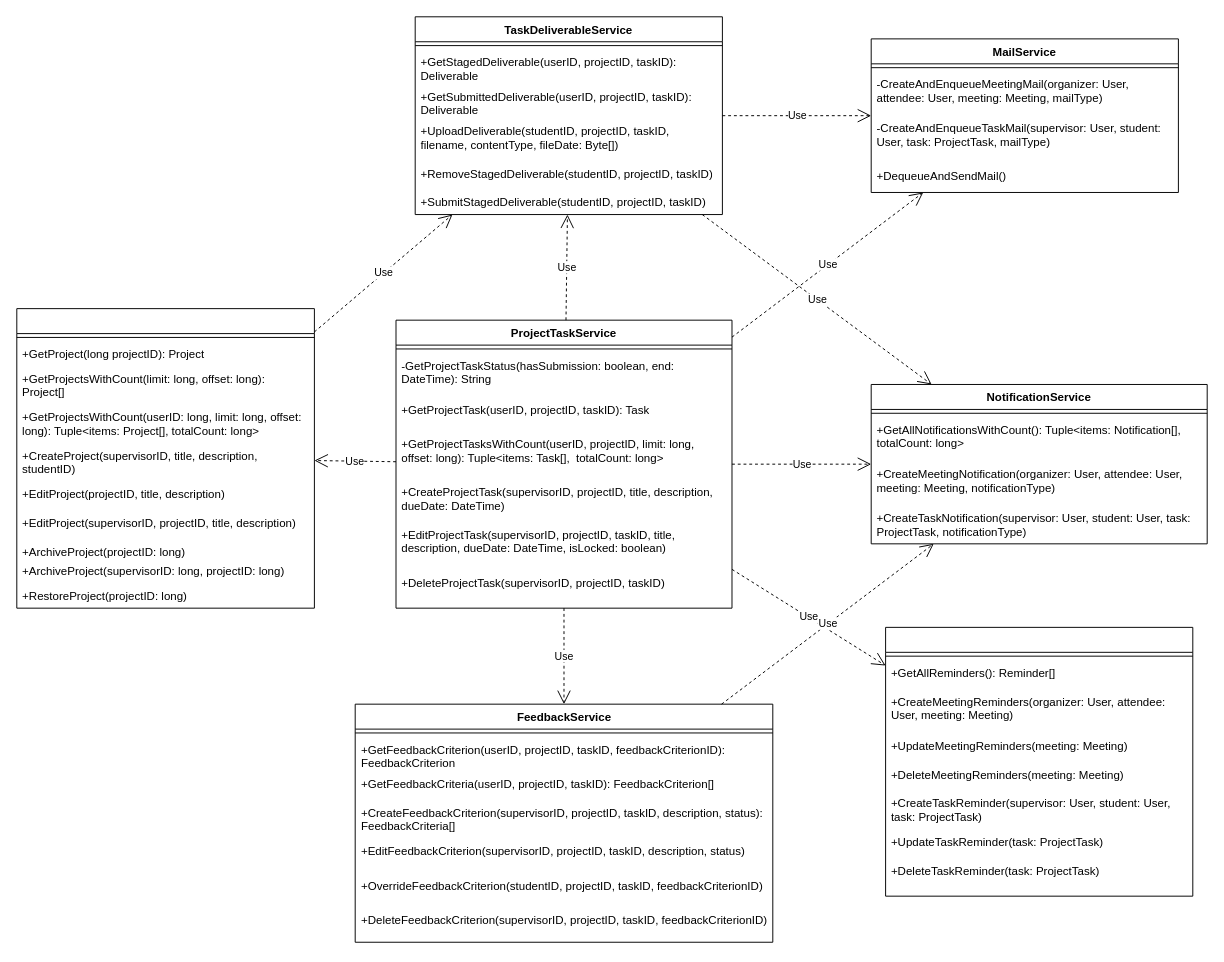
Some shapes in this 1224 by 962 pixel diagram are drawn without their labels. Here are the shapes that lost their labels. From the top down, the box of each, then its label:
(16, 308, 314, 608): ProjectService
(885, 626, 1193, 896): ReminderService
